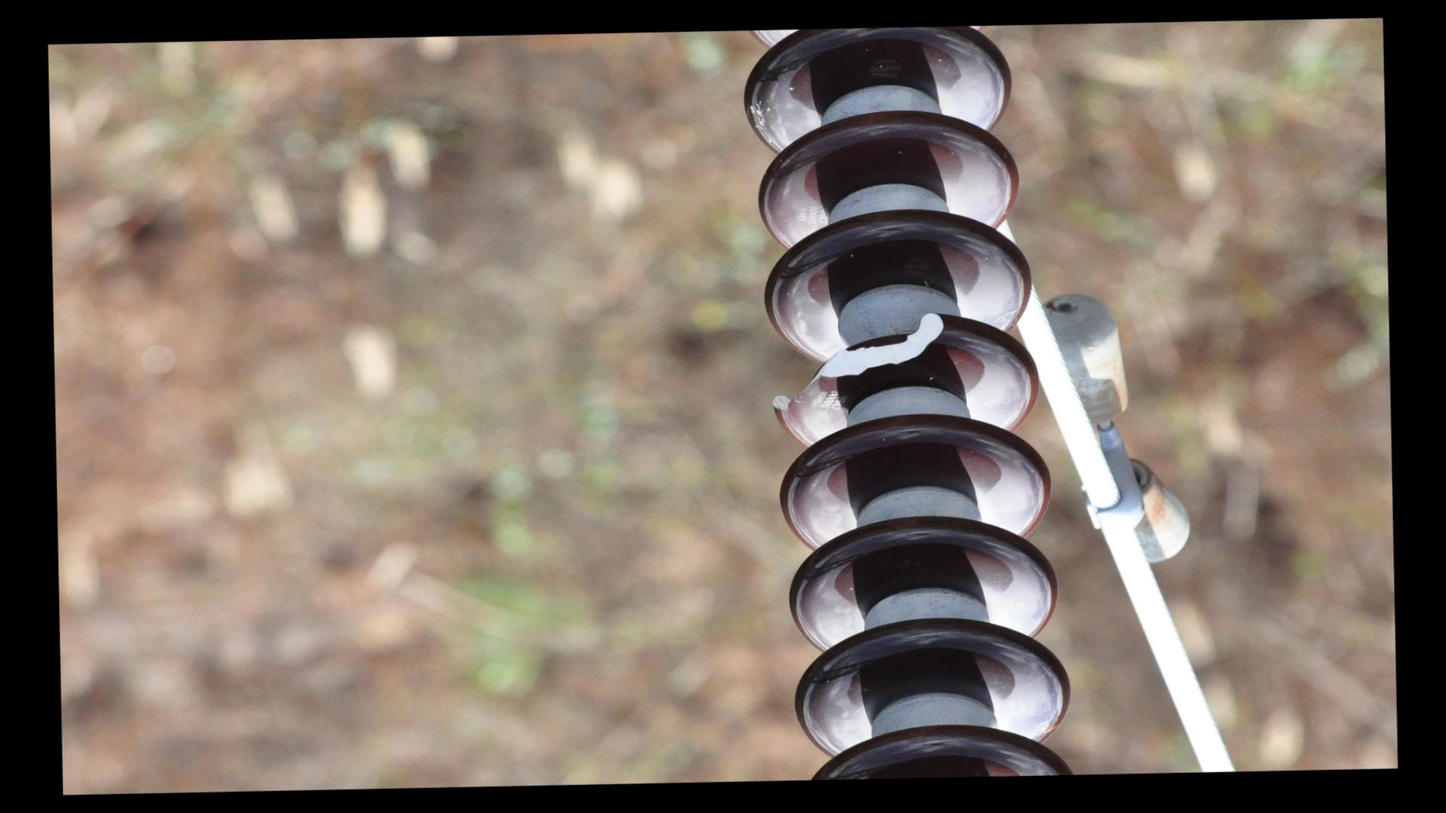damper: (1034, 284, 1196, 575)
